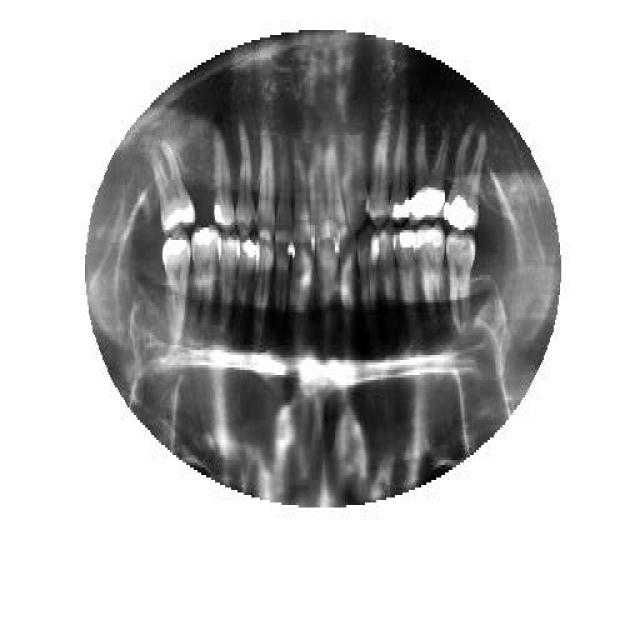Fillings: (442, 120, 487, 230), (410, 120, 450, 228), (190, 223, 220, 335), (416, 222, 444, 318), (211, 120, 235, 230), (388, 105, 410, 223), (235, 230, 257, 330), (394, 228, 416, 310)
